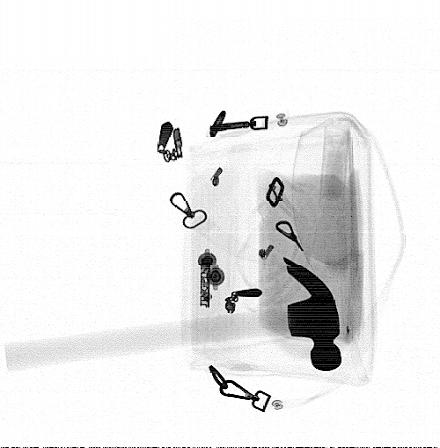Hammer: (4, 255, 342, 374)
